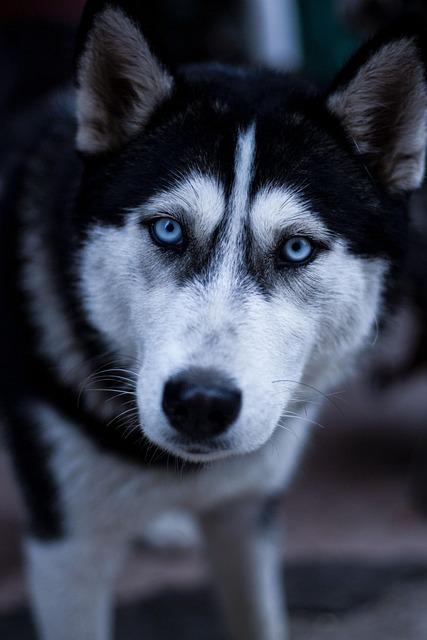Non_Gorille: (20, 22, 427, 636)
